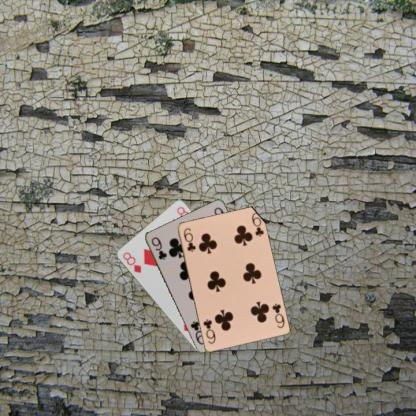6c: (270, 300, 286, 330), (181, 225, 197, 253)
8d: (120, 250, 142, 274)
9c: (149, 234, 168, 261)
